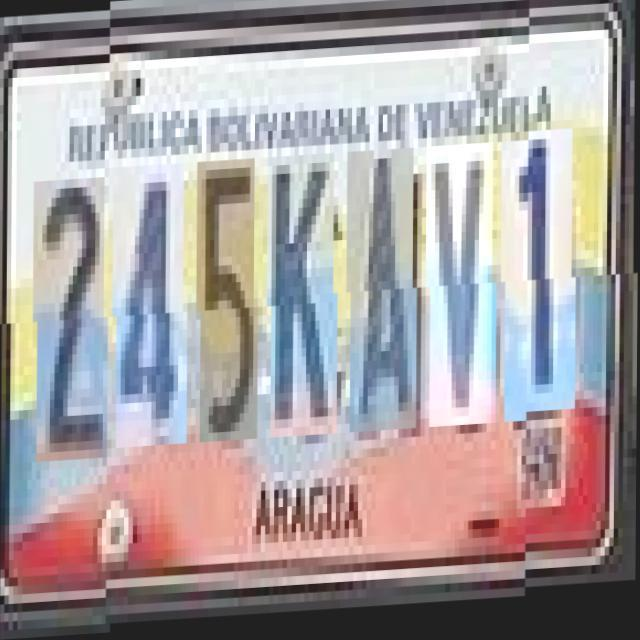1: (505, 145, 577, 429)
2: (37, 170, 109, 453)
4: (116, 166, 188, 450)
5: (200, 162, 259, 446)
A: (350, 154, 418, 438)
K: (271, 158, 339, 442)
V: (430, 149, 498, 433)
